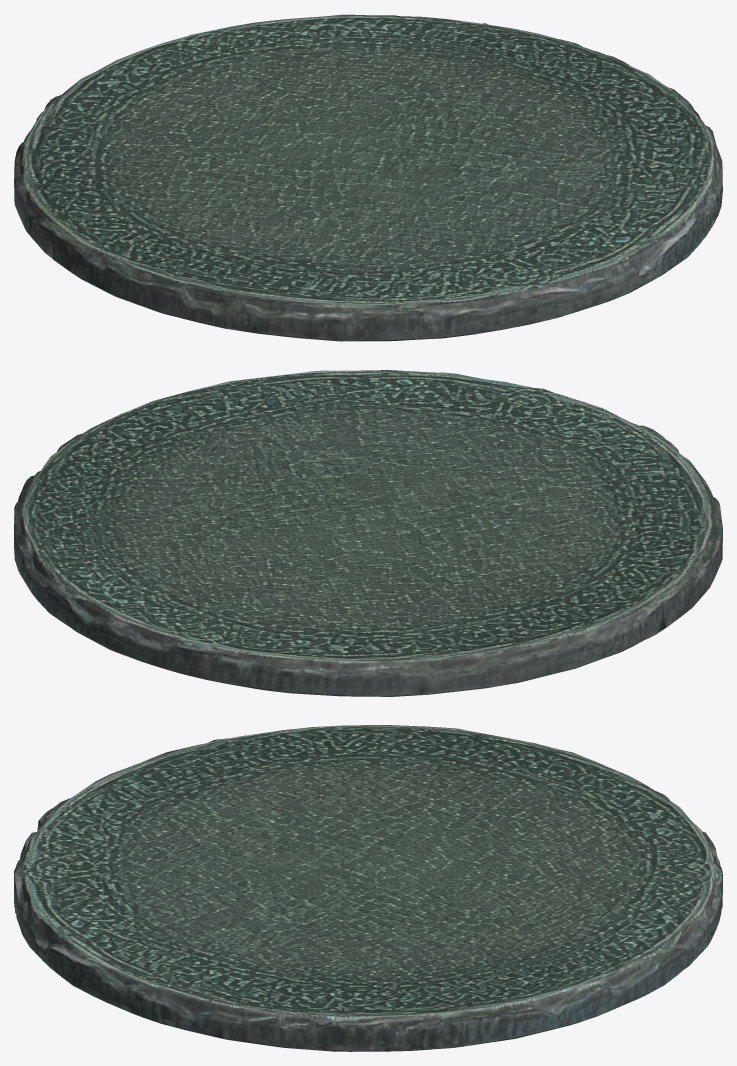
File: rune_sigil.glb
The picture shows the model from 3 angles, top to bottom: view 1: azimuth 30°, elevation 25°; view 2: azimuth 150°, elevation 25°; view 3: azimuth 270°, elevation 25°; orthographic projection.
Size of the model in its own units: 1 by 0.0541 by 1.
1 material, 1 textured.
